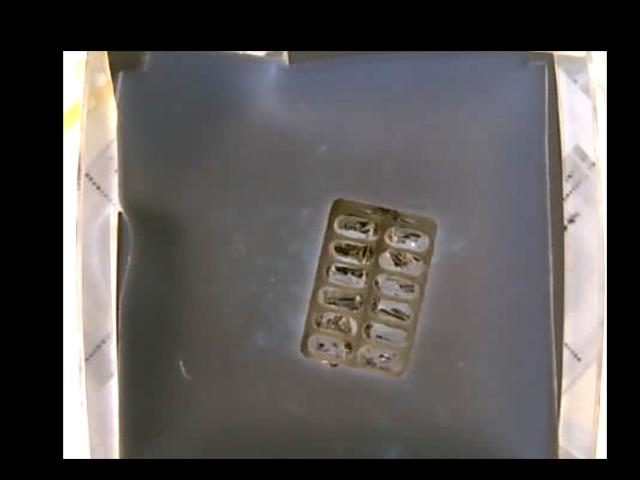Medicine: (298, 198, 442, 375)
